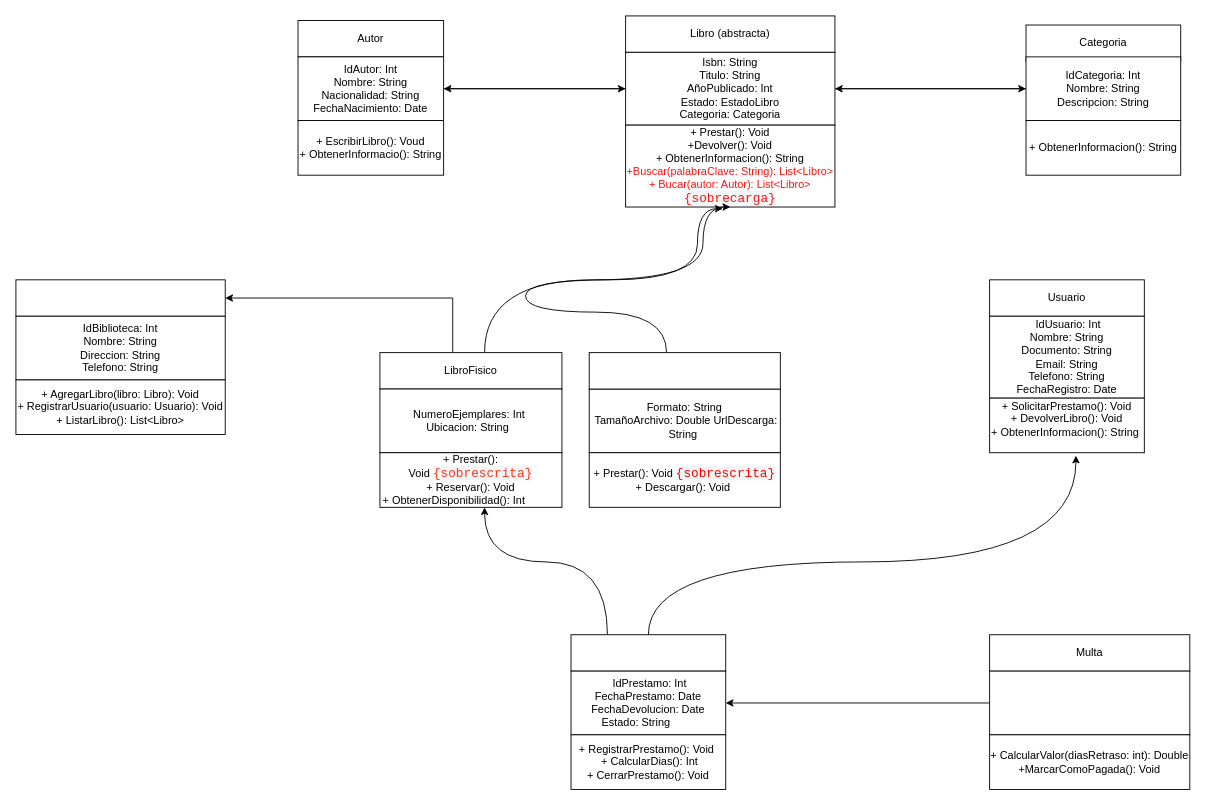
Image size: 1206x805. Some labels were removed from this diagram. The centre of each missing label's shape, as x and y in pixels:
Biblioteca: the point at 120,297
IdMulta: Int Valor: Double Fecha: Date Pagada: Boolean: the point at 1089,702
LibroDigital: the point at 684,370
Prestamo: the point at 648,652
